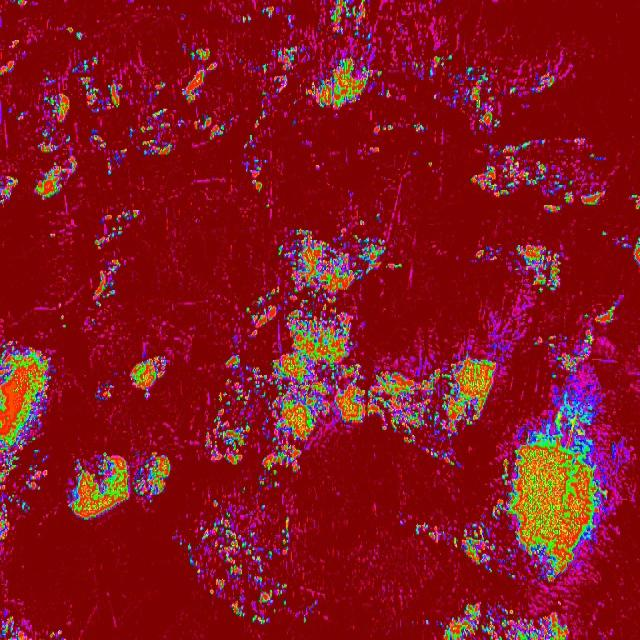fire: (204, 221, 511, 479), (508, 327, 627, 595), (31, 53, 177, 204), (178, 482, 322, 628), (400, 47, 576, 135), (0, 334, 58, 538), (465, 138, 611, 216), (396, 493, 508, 575), (67, 450, 174, 521), (178, 44, 238, 145), (309, 46, 394, 115), (247, 38, 304, 130), (438, 604, 568, 640), (511, 238, 562, 297), (362, 115, 428, 156), (1, 606, 72, 640), (329, 0, 381, 45), (92, 208, 144, 252), (127, 351, 171, 401), (238, 131, 269, 199), (1, 29, 29, 85), (240, 2, 298, 28), (92, 260, 122, 308), (578, 302, 622, 328), (89, 372, 120, 408), (0, 166, 21, 209), (600, 226, 630, 255), (631, 188, 640, 272), (392, 0, 407, 45), (8, 99, 28, 129), (64, 22, 83, 48), (47, 224, 63, 248), (10, 0, 40, 12), (56, 312, 72, 332), (424, 0, 444, 12), (424, 156, 436, 172), (177, 8, 186, 26), (373, 208, 383, 222), (489, 0, 505, 8), (89, 316, 98, 326), (502, 481, 508, 490), (264, 203, 270, 211)
